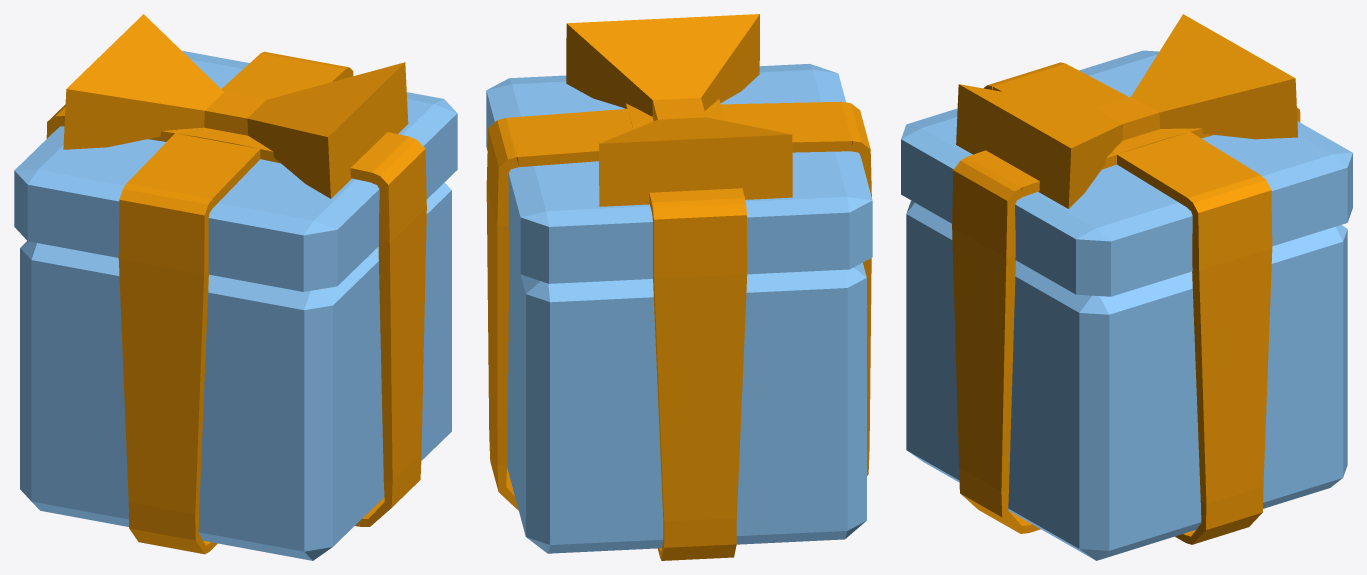
File: gift2.fbx
The picture shows the model from 3 angles, left to right: view 1: azimuth 30°, elevation 25°; view 2: azimuth 150°, elevation 25°; view 3: azimuth 270°, elevation 25°; orthographic projection. The views are drawn at different scales.
Parts seen in each view (by area): view 1: 立方體.074; view 2: 立方體.074; view 3: 立方體.074.
Boxes of the visible parts, x1=… form: 立方體.074: x1=14, y1=14, x2=457, y2=560; 立方體.074: x1=486, y1=14, x2=872, y2=560; 立方體.074: x1=901, y1=14, x2=1352, y2=560.
Bounding box in the file's own units: 1023 × 1006 × 1023.
